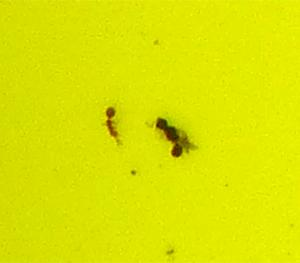Hymenoptera: (150, 108, 200, 163), (100, 100, 123, 144)
